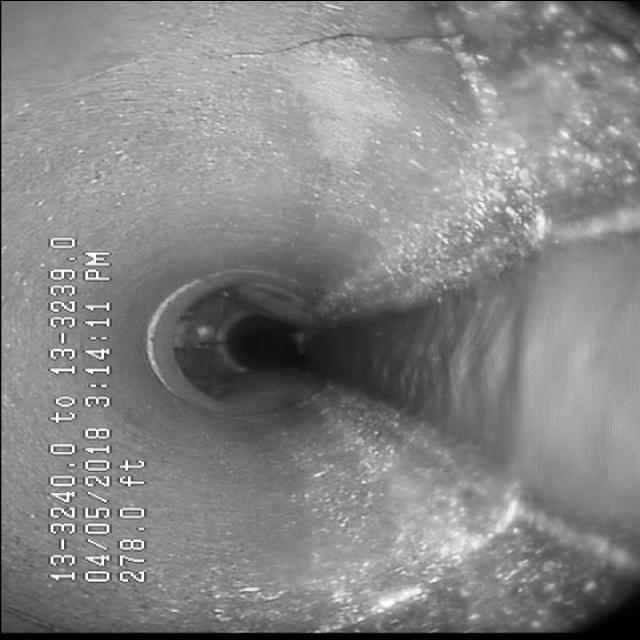Crack: (200, 17, 454, 63)
